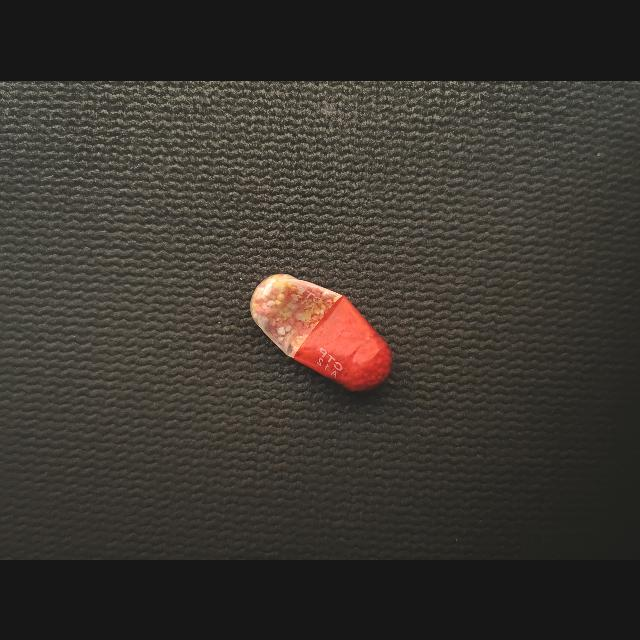Defective Capsule: (250, 273, 392, 390)
